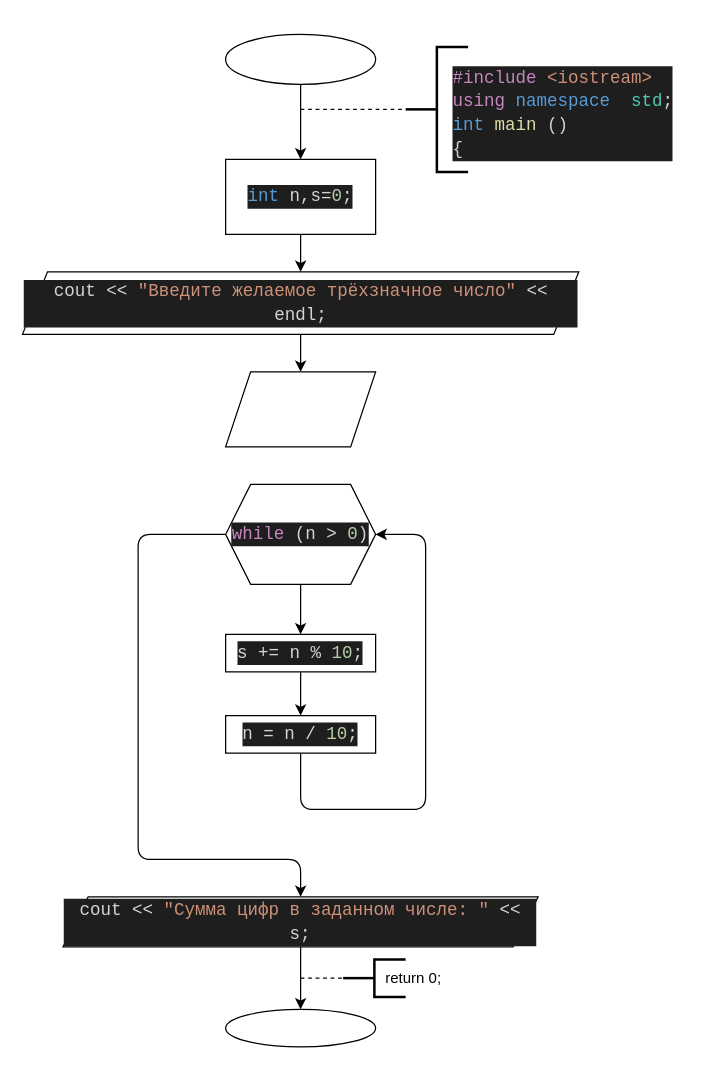
Image size: 709x1069. Some labels were removed from this diagram. Each missing label, with the centre of its shape:
"cin >> n;" belongs at point (300, 409).
"Запуск" belongs at point (300, 58).
"Конец" belongs at point (300, 1027).
